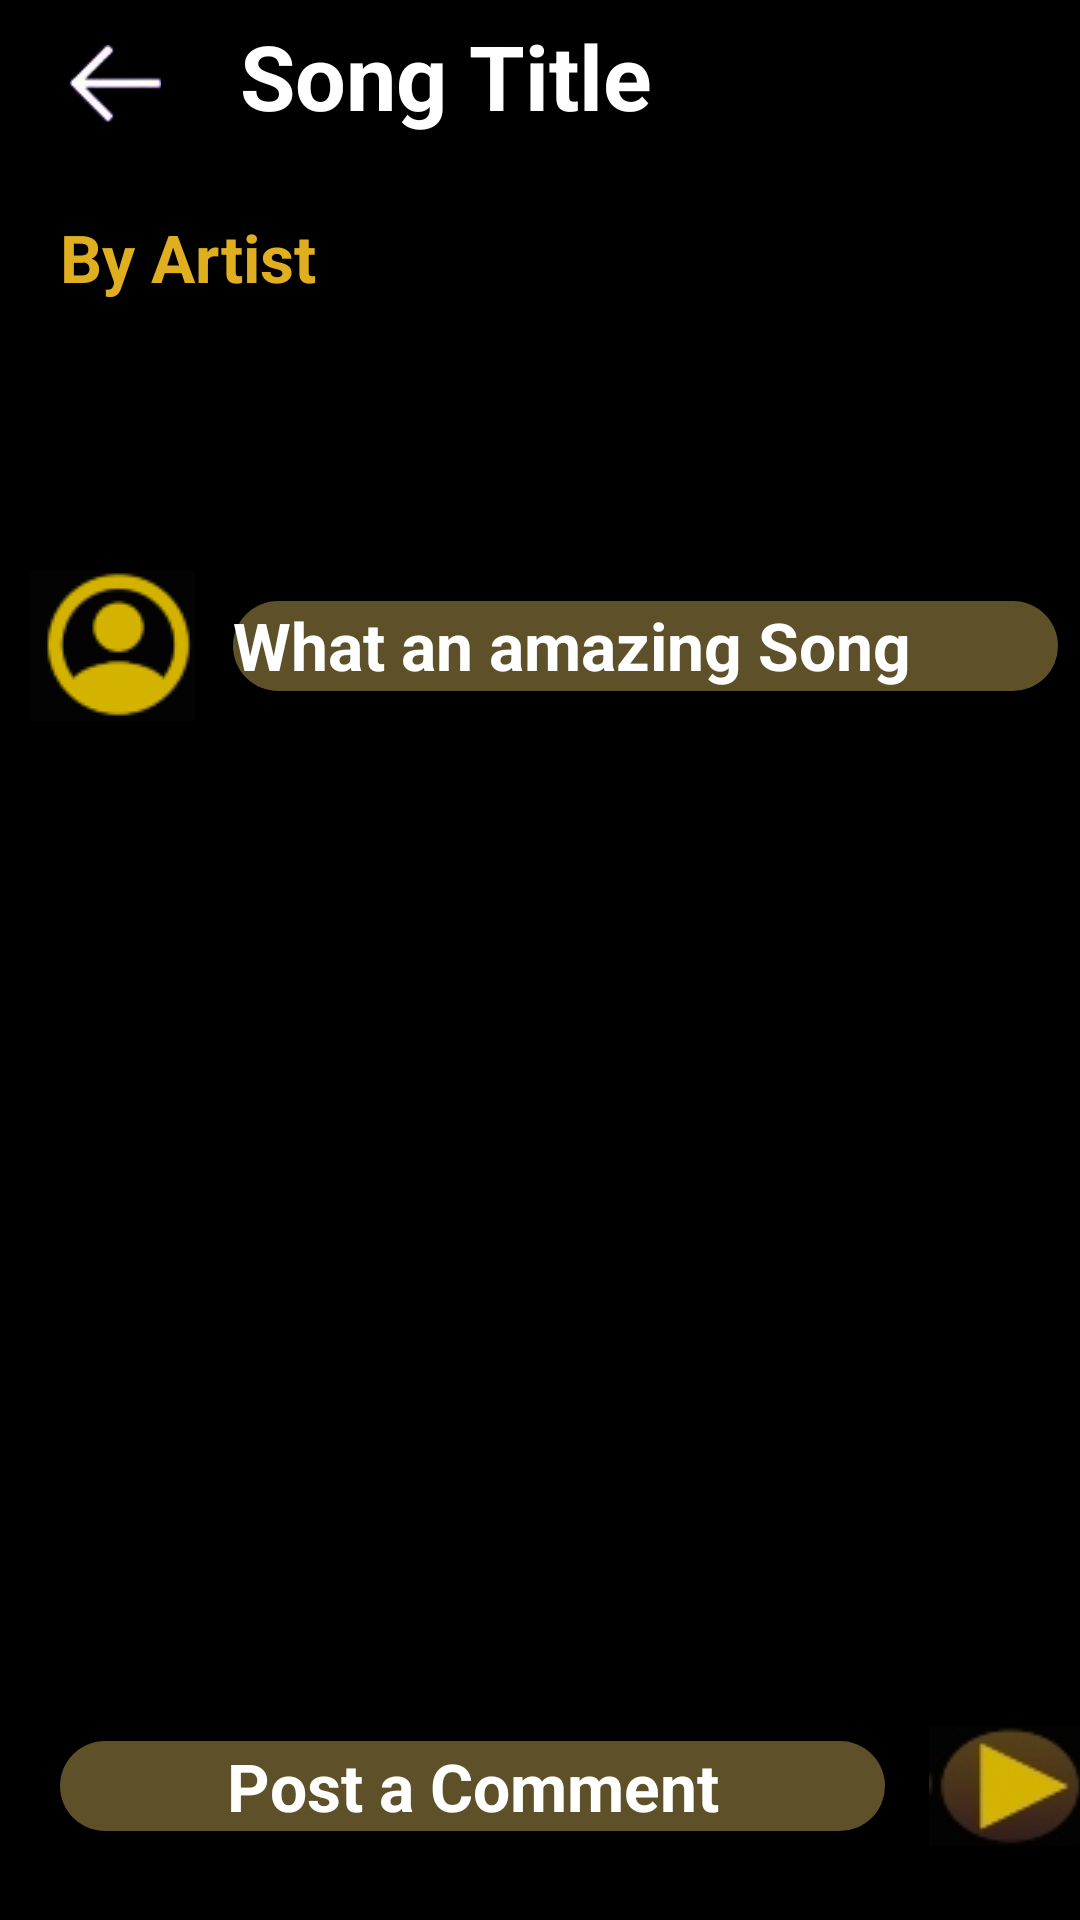

Screen size 1080 × 1920. Icon name, then its box in pixels as {"x1": x1, "y1": y1, "x2": x2, "y2": y2}:
back: {"x1": 70, "y1": 45, "x2": 161, "y2": 122}
person: {"x1": 47, "y1": 573, "x2": 190, "y2": 716}
